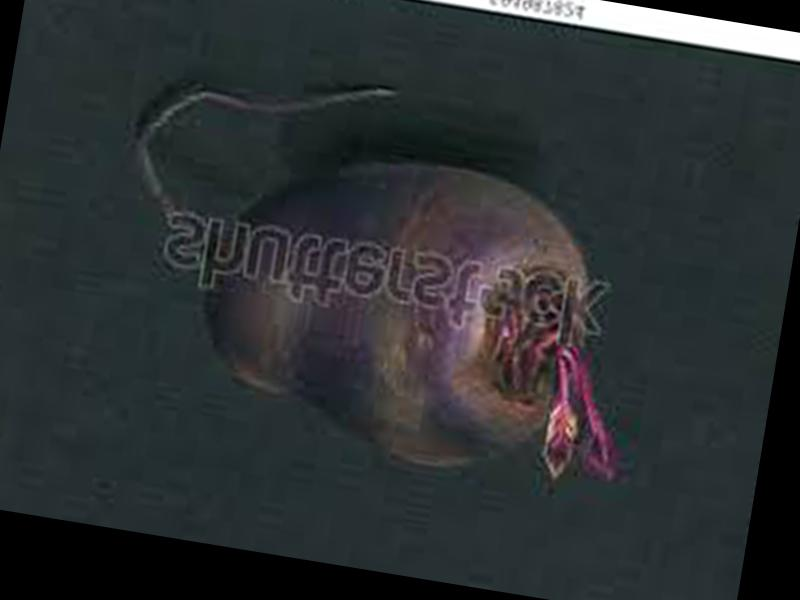Beet: (95, 51, 681, 499)
